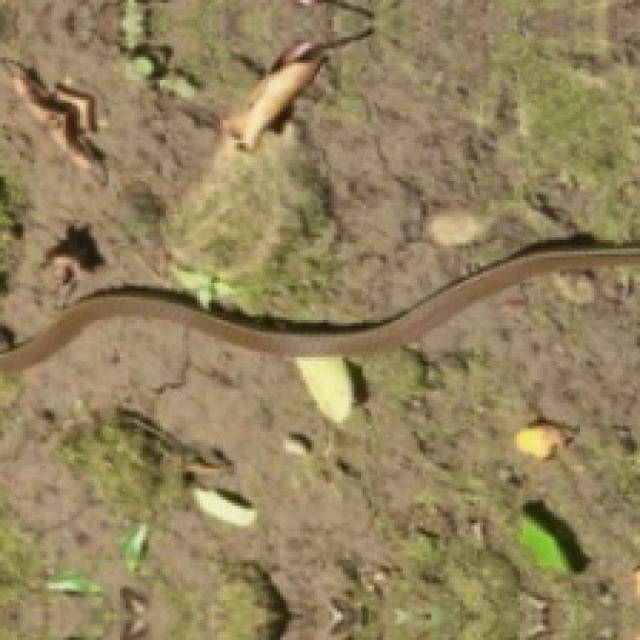philippine bronzeback treesnake: (0, 243, 637, 371)
